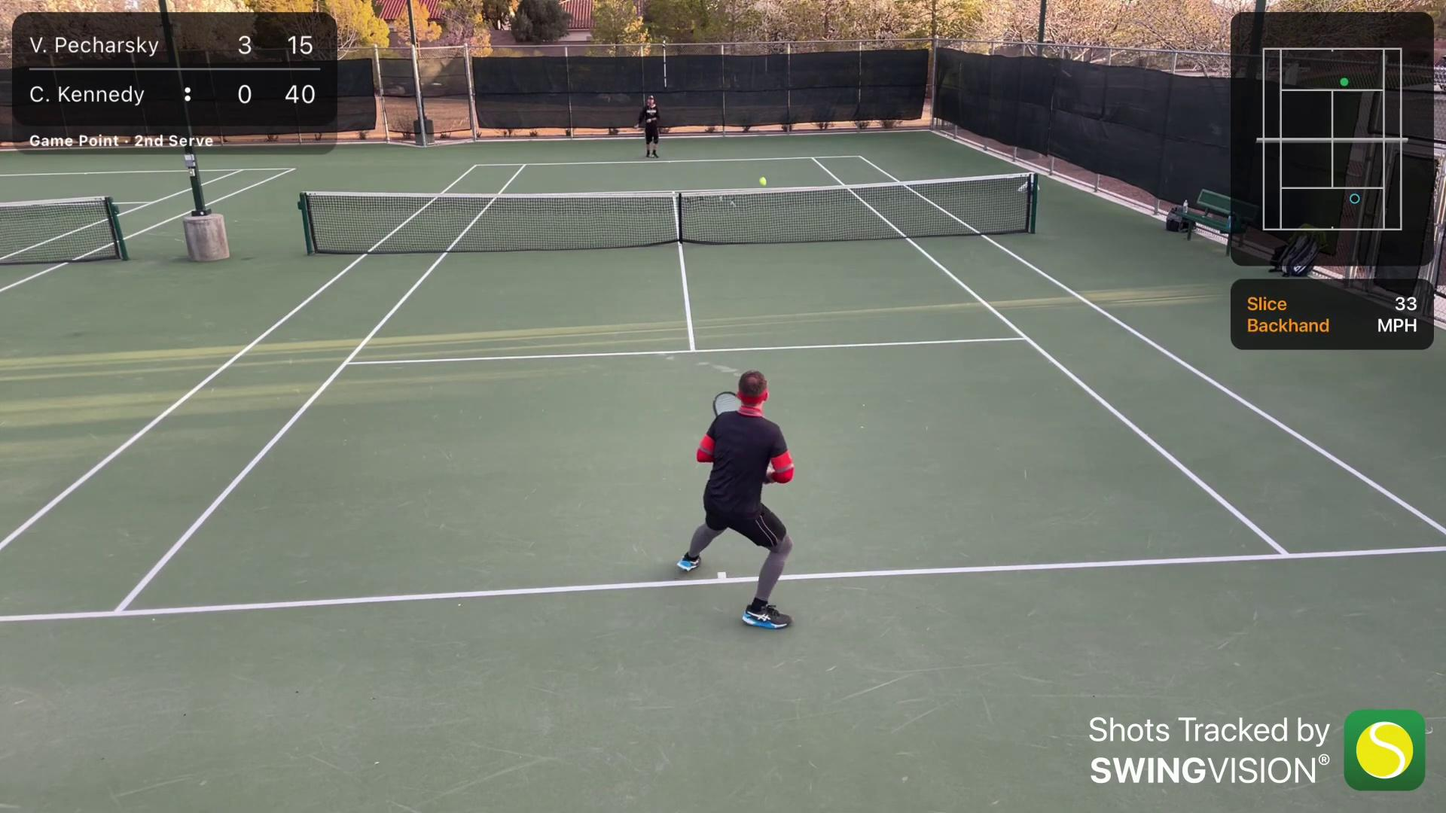ball: (756, 175, 770, 187)
